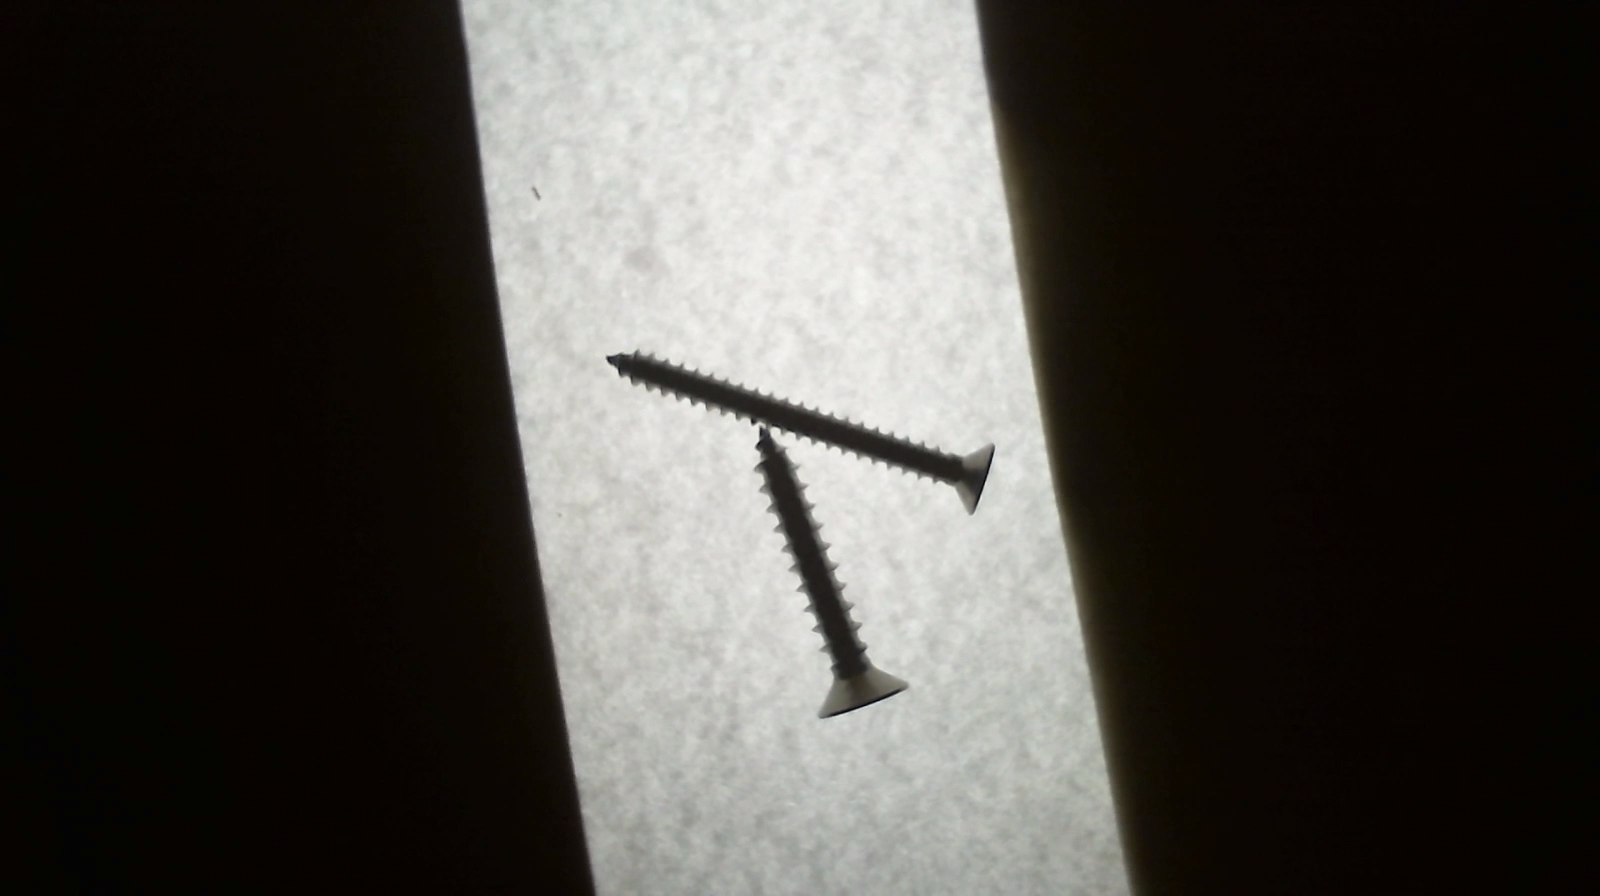S001: (749, 424, 914, 722)
S002: (605, 349, 1004, 521)
